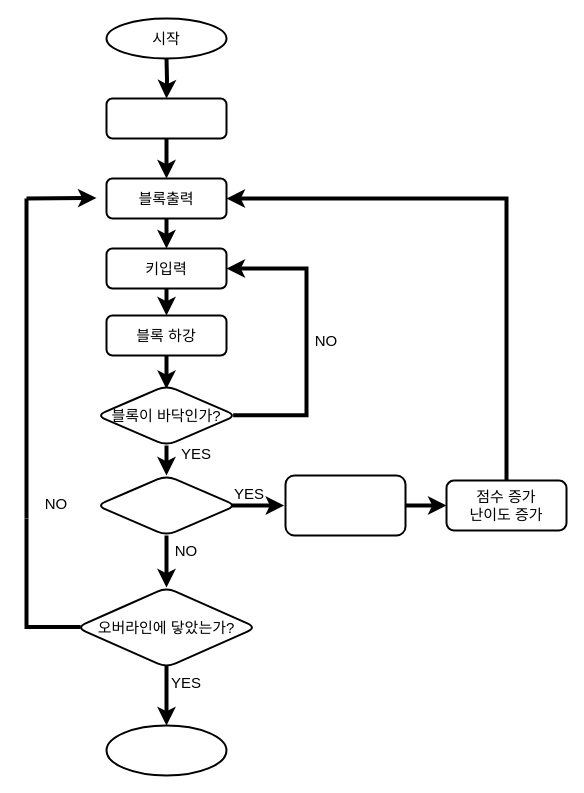
The diagram is 584 pixels wide and 793 high, and some of its shapes have lost their labels. The box of each missing label's shape, as (x1, y1, x2, y2) in pixels:
블록이 가득찼나?: (95, 474, 237, 536)
종료: (105, 724, 227, 776)
줄지우기: (284, 474, 406, 536)
초기화면: (105, 97, 227, 139)
